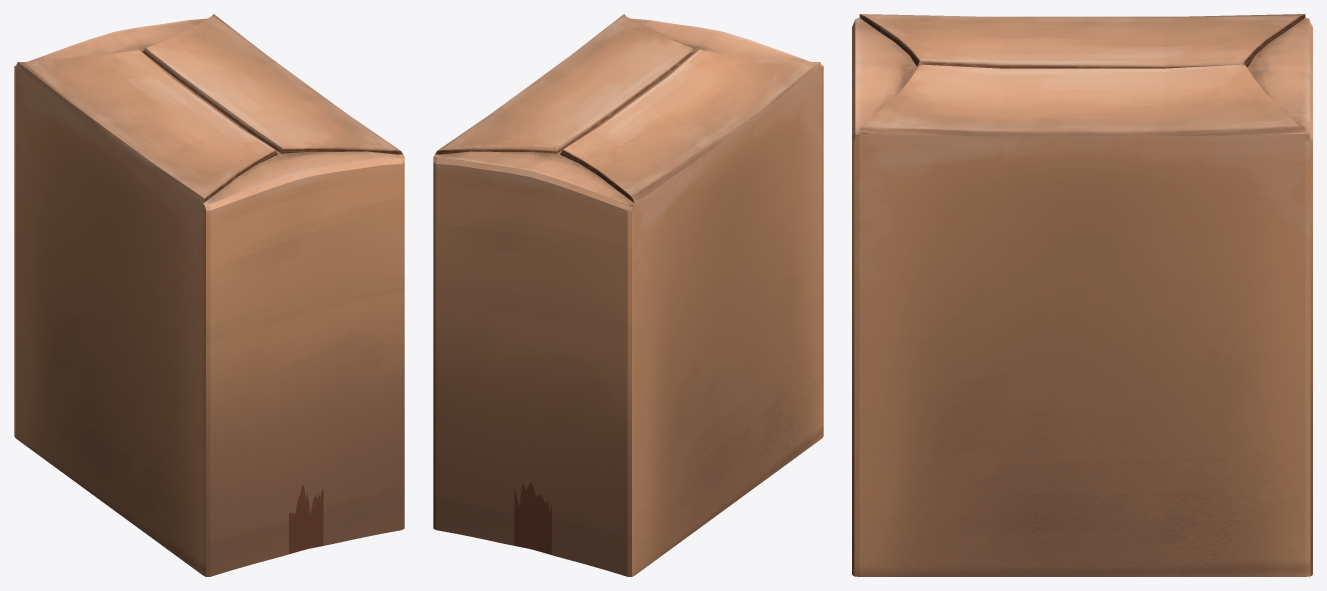
Rendered from MDL_Box_03.fbx.
The picture shows the model from 3 angles, left to right: view 1: azimuth 30°, elevation 25°; view 2: azimuth 150°, elevation 25°; view 3: azimuth 270°, elevation 25°; orthographic projection. The views are drawn at different scales.
Visible parts, largest first — view 1: MDL_Box_03; view 2: MDL_Box_03; view 3: MDL_Box_03.
Boxes of the visible parts, left/top/right/bottom form: MDL_Box_03: left=14, top=14, right=404, bottom=576; MDL_Box_03: left=433, top=14, right=823, bottom=576; MDL_Box_03: left=852, top=14, right=1312, bottom=576.
Bounding box in the file's own units: 18.33 × 33.61 × 30.74.
